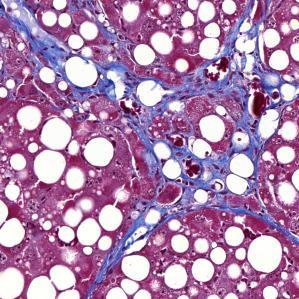fibrosis: (124, 119, 223, 198)
